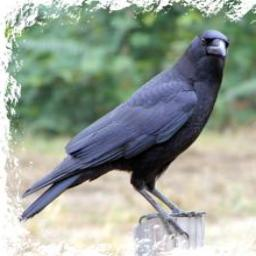Crow: (15, 28, 235, 243)
